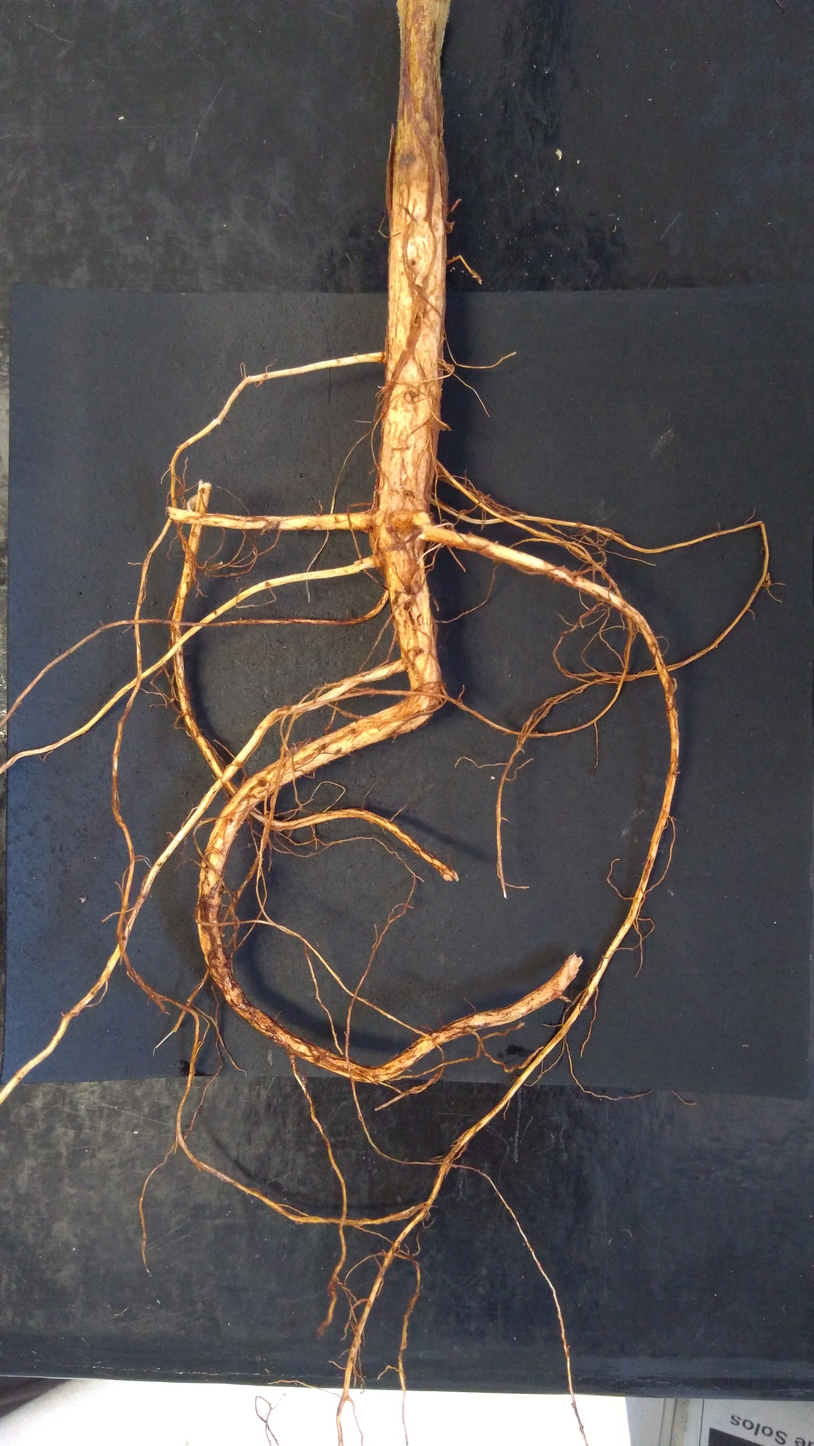nodule: (411, 510, 433, 526), (445, 220, 454, 234), (444, 363, 454, 374)
